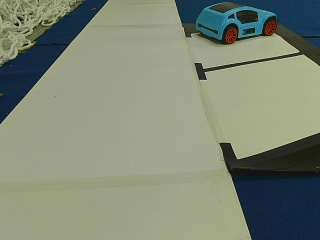car: (195, 2, 277, 43)
